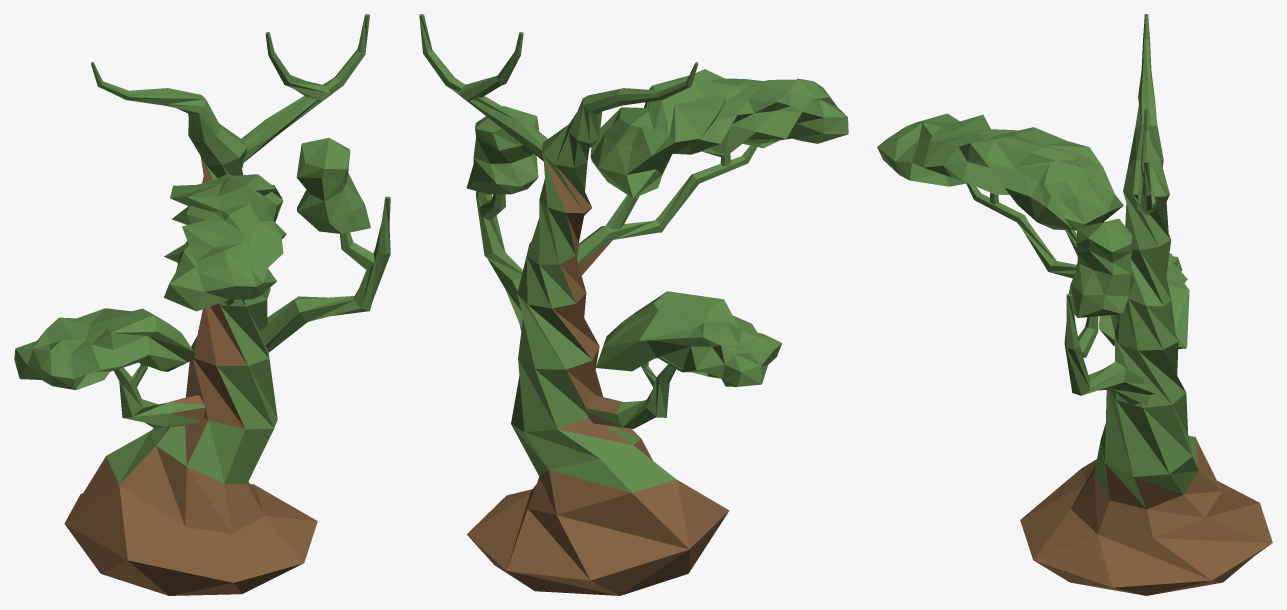
File: tree3d-063.glb
3 renders of one model, left to right at view 1: azimuth 30°, elevation 25°; view 2: azimuth 150°, elevation 25°; view 3: azimuth 270°, elevation 25°, orthographic. The views are drawn at different scales.
Visible parts, largest first — view 1: tree3d-063; view 2: tree3d-063; view 3: tree3d-063.
Boxes of the visible parts, <box> form: tree3d-063: <box>14,14,390,595</box>; tree3d-063: <box>419,14,848,595</box>; tree3d-063: <box>877,14,1272,595</box>.
Size of the model in its own units: 0.7059 by 1 by 0.7278.
